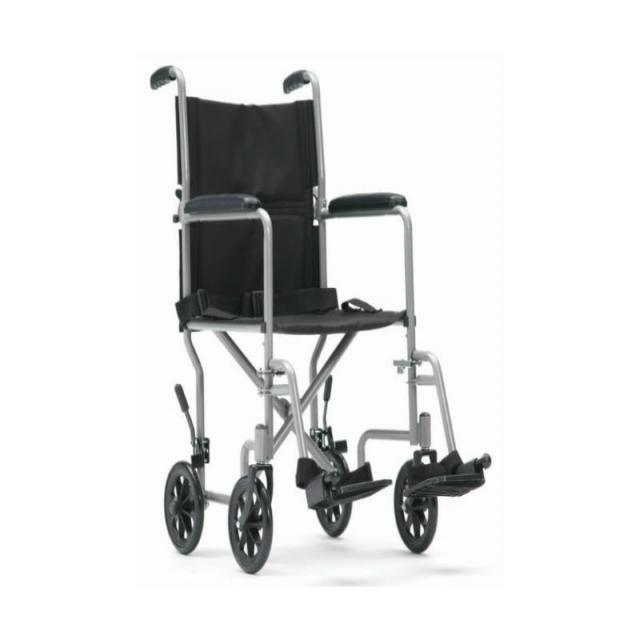wheelchair: (138, 37, 509, 583)
